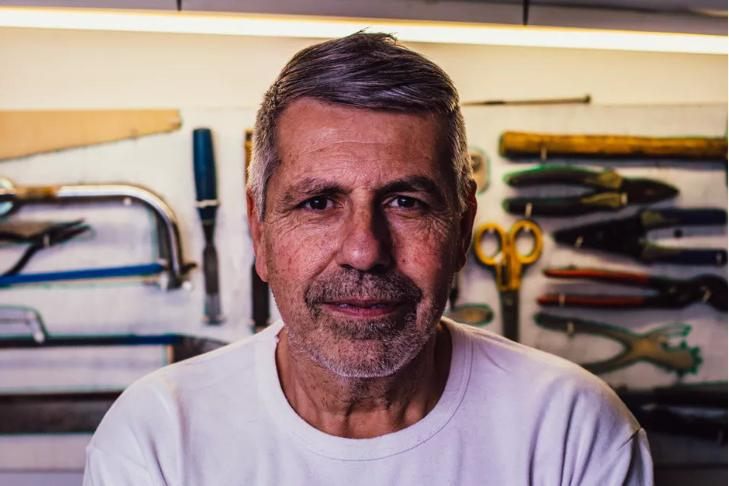face: (266, 98, 454, 381)
